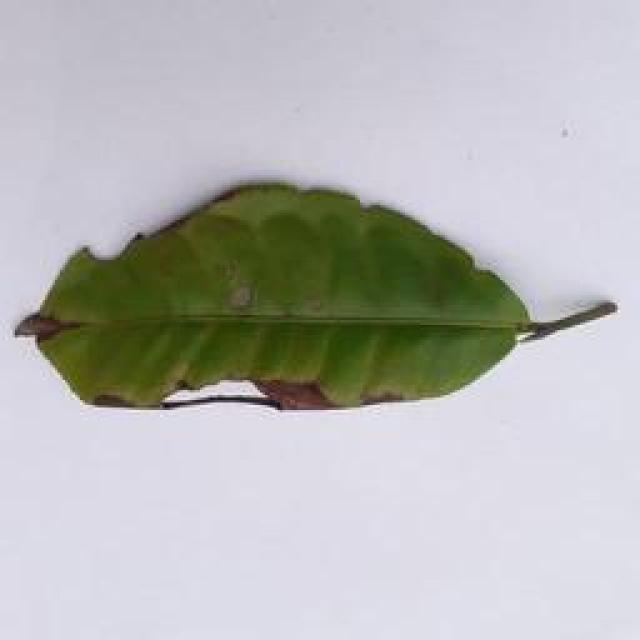Brown Blight: (10, 190, 614, 430)
